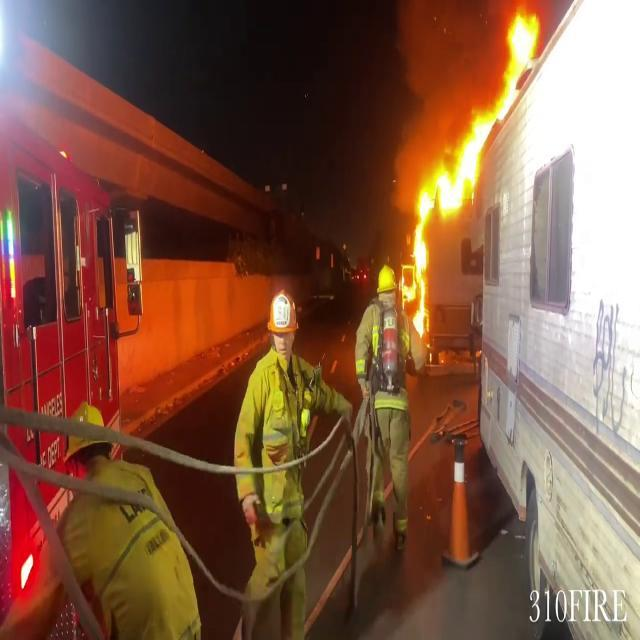Fire: (416, 8, 544, 217), (400, 205, 433, 348)
